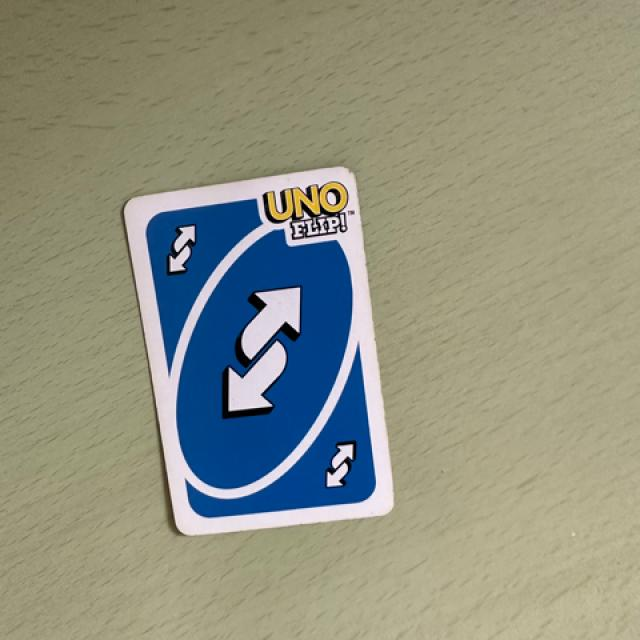lbluerevers-20: (149, 203, 214, 292)
